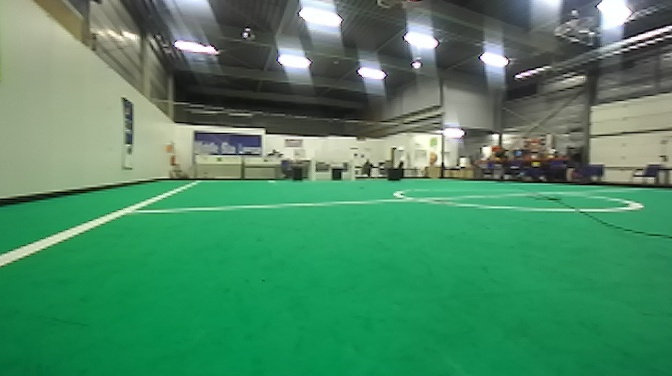goalpost: (347, 152, 357, 182), (308, 153, 316, 177)
